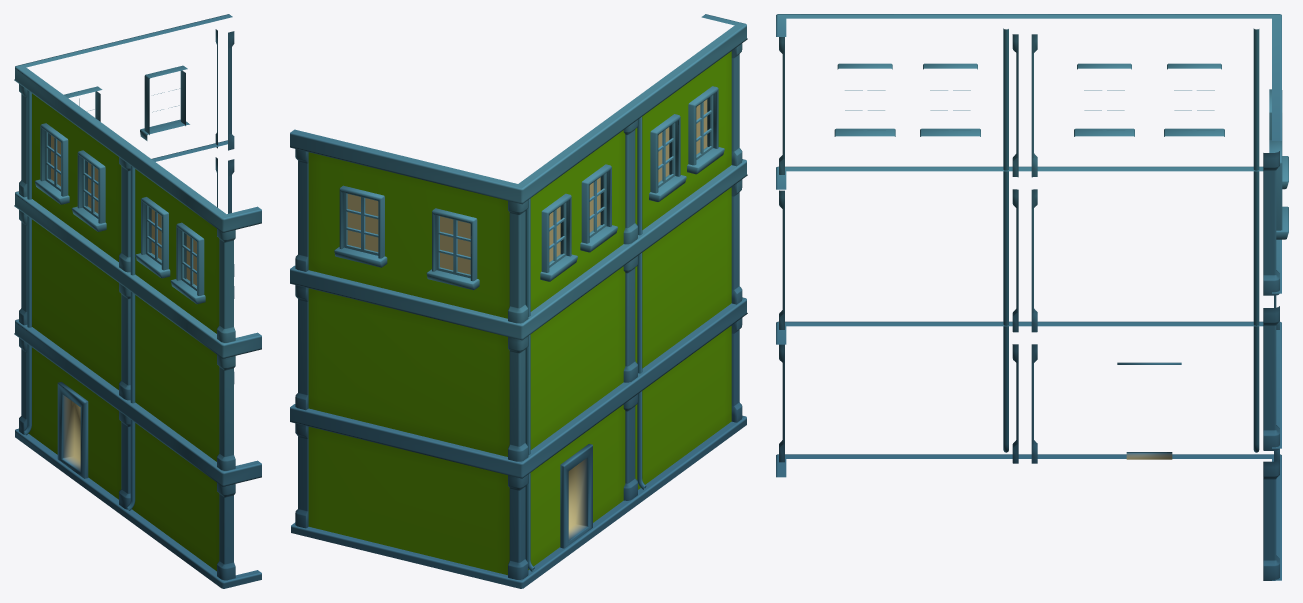
Rendered from Apartments03Night.glb.
3 views of the same model, side by side, from view 1: azimuth 30°, elevation 25°; view 2: azimuth 150°, elevation 25°; view 3: azimuth 270°, elevation 25° (orthographic). The views are drawn at different scales.
Visible parts, largest first — view 1: Apartments03Night; view 2: Apartments03Night; view 3: Apartments03Night.
Boxes of the visible parts, <box> form: Apartments03Night: <box>14,14,261,588</box>; Apartments03Night: <box>290,14,747,588</box>; Apartments03Night: <box>776,14,1288,580</box>.
Bounding box in the file's own units: 10.6 × 17.16 × 17.79.
2 materials, 1 textured.
